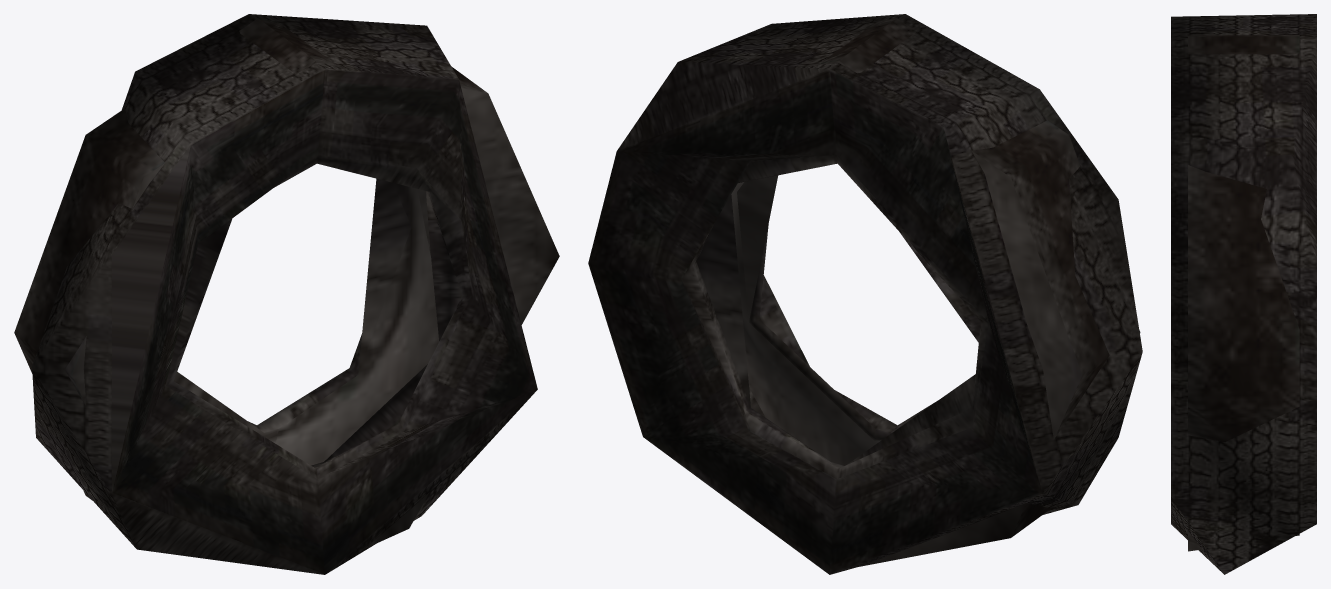
The model's file is old_tyre.glb.
3 renders of one model, left to right at view 1: azimuth 30°, elevation 25°; view 2: azimuth 150°, elevation 25°; view 3: azimuth 270°, elevation 25°, orthographic. The views are drawn at different scales.
Parts seen in each view (by area): view 1: old_tyre; view 2: old_tyre; view 3: old_tyre.
Part boxes in pixels (x1,y1,x2,y2): old_tyre: (14,14,559,574); old_tyre: (588,14,1142,574); old_tyre: (1171,14,1316,574).
Bounding box in the file's own units: 0.5759 × 0.5517 × 0.149.
Materials: 1 (1 with a texture image).
